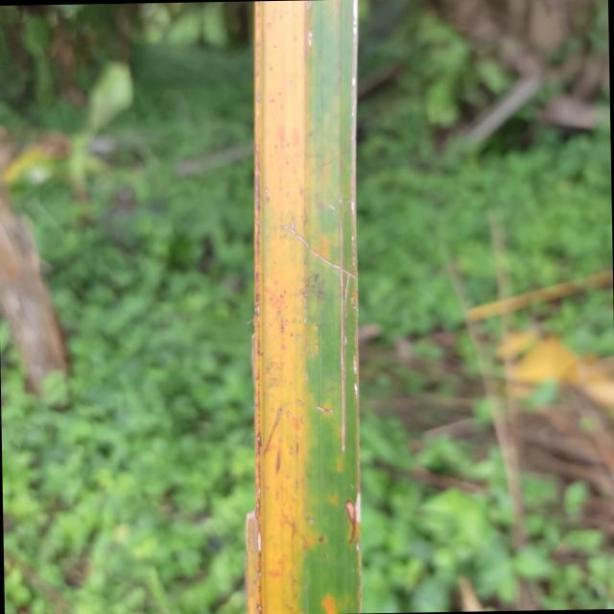Megnesium: (249, 5, 360, 614)
